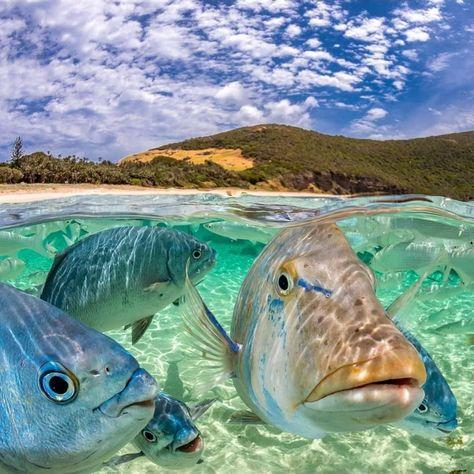fish: (172, 204, 458, 440), (0, 285, 155, 473), (38, 222, 216, 345), (104, 392, 218, 474), (397, 317, 458, 433), (368, 237, 451, 275)
